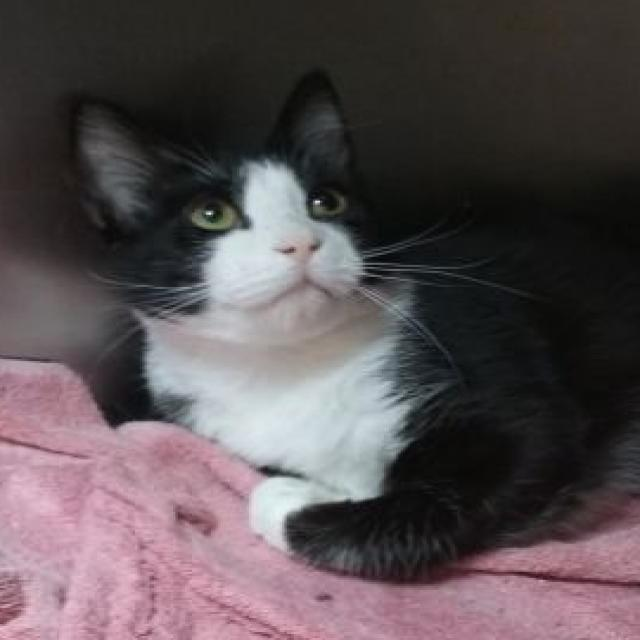Tuxedo: (50, 56, 640, 584)
